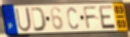6: (50, 6, 65, 32)
C: (66, 7, 80, 31)
D: (30, 7, 48, 33)
E: (98, 4, 117, 30)
F: (82, 6, 99, 31)
U: (14, 6, 33, 33)
